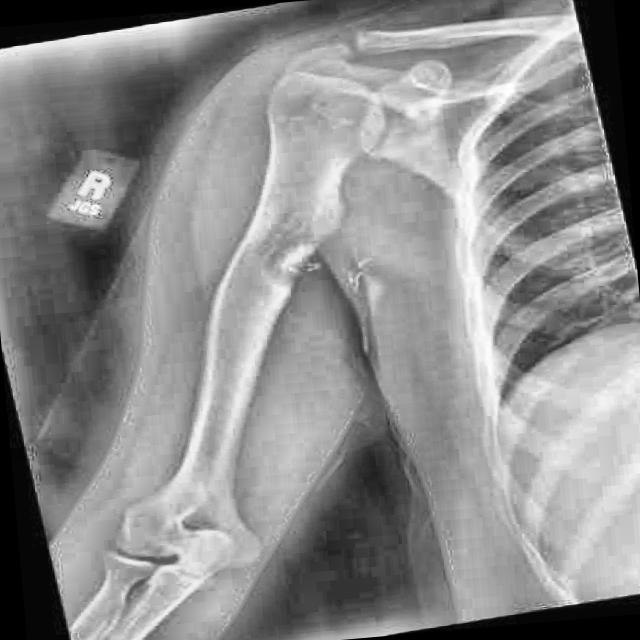humerus: (225, 182, 376, 327)
